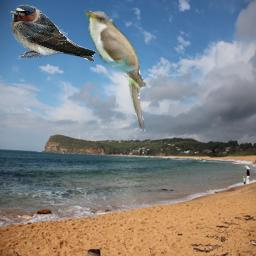Cuckoo: (80, 7, 148, 134)
Swallow: (8, 4, 97, 62)
